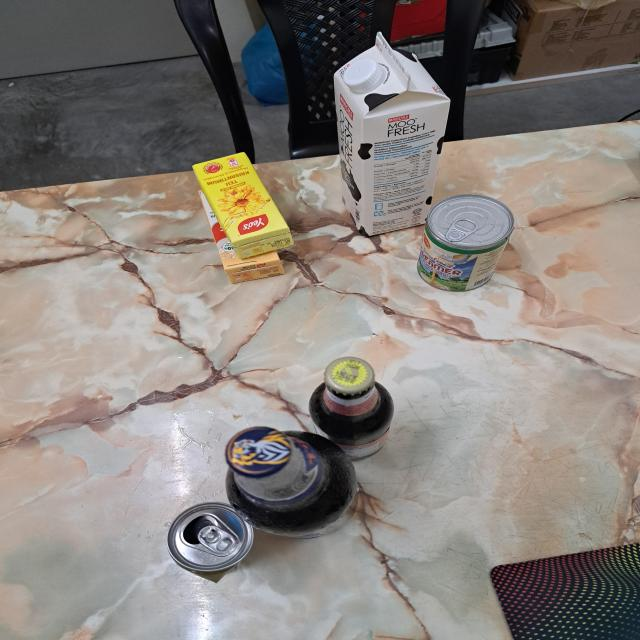can: (417, 194, 515, 292), (167, 502, 254, 584)
drink carton: (336, 31, 452, 238), (194, 151, 294, 259), (197, 188, 286, 284)
glass bottle: (225, 425, 358, 539), (309, 356, 395, 460)
plastic bottle cap: (341, 58, 383, 92)
pop tab: (197, 526, 237, 556), (445, 218, 479, 242)
